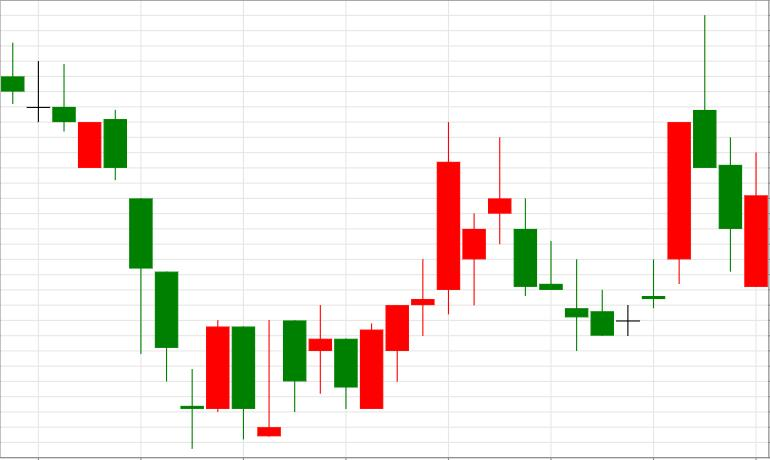evening_star_fall: (360, 123, 537, 409)
morning_star_rise: (1, 43, 229, 449)
